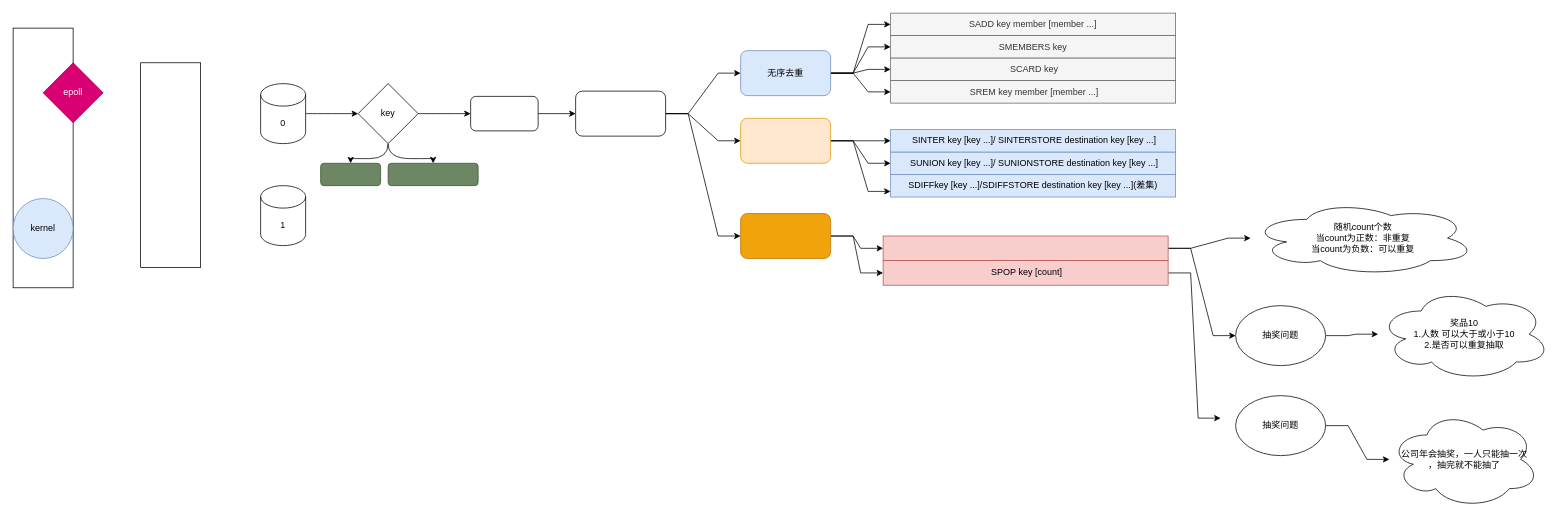
Some shapes in this 1564 by 521 pixel diagram are drawn without their labels. Here are the shapes that lost their labels. From the top down, the box of each, then its label:
(470, 96, 538, 131): value
(575, 90, 666, 136): Set
(12, 27, 73, 288): liunx
(740, 118, 831, 163): 集合操作丰富
(140, 62, 201, 268): port:6379
(320, 163, 381, 186): TYPE key
(387, 163, 478, 186): object encoding key
(740, 213, 831, 259): 随机事件
(882, 235, 1168, 261): SRANDMEMBER key [count]
